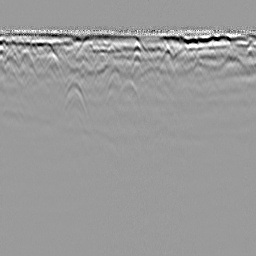cavity: (118, 78, 138, 99)
